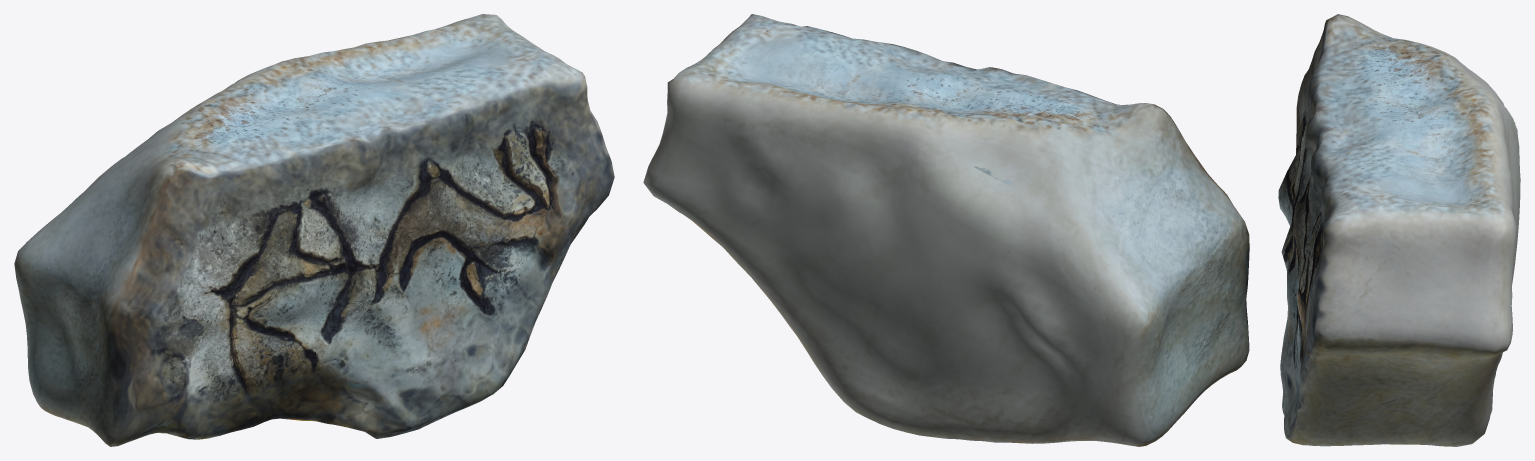
3 views of the same model, side by side, from view 1: azimuth 30°, elevation 25°; view 2: azimuth 150°, elevation 25°; view 3: azimuth 270°, elevation 25° (orthographic).
Parts seen in each view (by area): view 1: Cave_painting_Mesh; view 2: Cave_painting_Mesh; view 3: Cave_painting_Mesh.
Boxes of the visible parts, box(x1,y1,x2,y2) form: Cave_painting_Mesh: box(14, 14, 614, 446); Cave_painting_Mesh: box(643, 14, 1249, 446); Cave_painting_Mesh: box(1278, 14, 1520, 446).
Size of the model in its own units: 1.56 by 0.9473 by 0.6362.
1 material, 1 textured.
